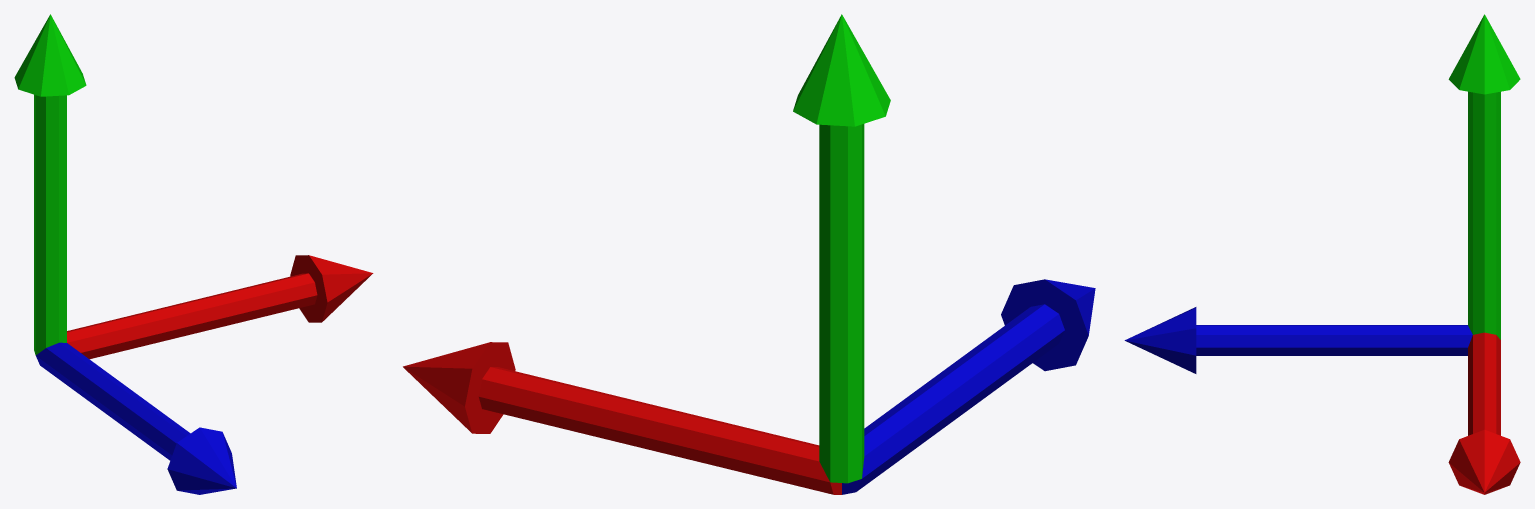
Rendered from arrow_x_y_z.dae.
3 views of the same model, side by side, from view 1: azimuth 30°, elevation 25°; view 2: azimuth 150°, elevation 25°; view 3: azimuth 270°, elevation 25° (orthographic). The views are drawn at different scales.
Parts seen in each view (by area): view 1: ArrowY, ArrowX, ArrowZ; view 2: ArrowY, ArrowX, ArrowZ; view 3: ArrowY, ArrowZ, ArrowX.
Part boxes in pixels (bbox=[...]): ArrowY: bbox=[14, 14, 86, 355]; ArrowX: bbox=[67, 255, 373, 359]; ArrowZ: bbox=[36, 342, 236, 494]; ArrowY: bbox=[793, 14, 890, 483]; ArrowX: bbox=[403, 342, 841, 494]; ArrowZ: bbox=[842, 279, 1095, 494]; ArrowY: bbox=[1448, 14, 1520, 339]; ArrowZ: bbox=[1124, 307, 1472, 373]; ArrowX: bbox=[1448, 332, 1520, 494].
Bounding box in the file's own units: 0.1375 × 0.1375 × 0.1375.
